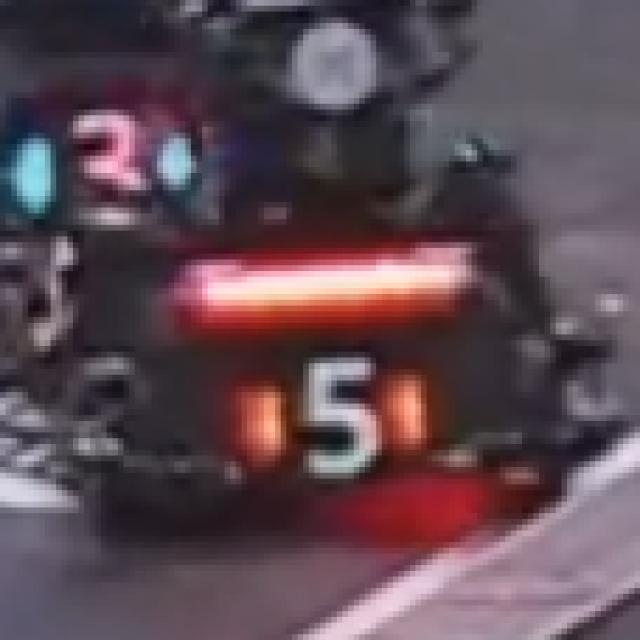B3: (28, 121, 185, 213)
R5: (253, 357, 432, 473)
